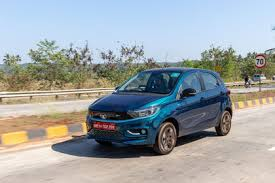Tiago: (83, 62, 237, 162)
